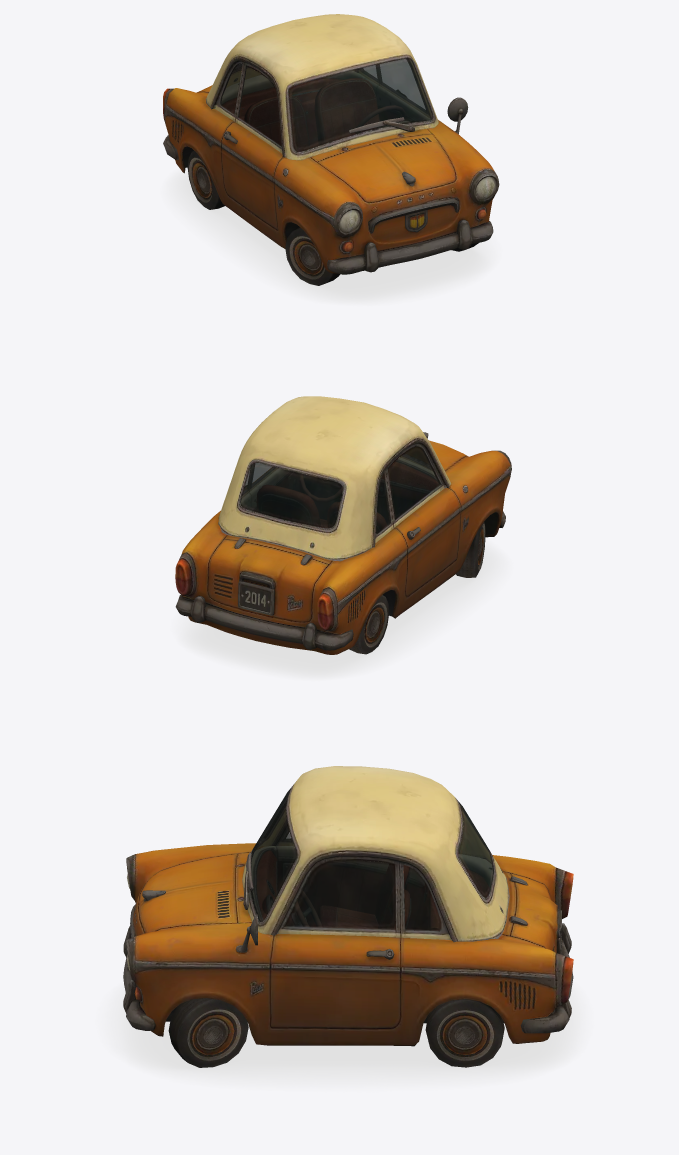
File: car-transformed.glb
3 renders of one model, top to bottom at view 1: azimuth 30°, elevation 25°; view 2: azimuth 150°, elevation 25°; view 3: azimuth 270°, elevation 25°, orthographic. The views are drawn at different scales.
Visible parts, largest first — view 1: Object_2, Object_3, Object_5, Object_4; view 2: Object_2, Object_3, Object_5, Object_4; view 3: Object_2, Object_3, Object_5, Object_4.
Boxes of the visible parts, x1=… form: Object_2: x1=163, y1=14, x2=499, y2=285; Object_3: x1=164, y1=168, x2=497, y2=304; Object_5: x1=220, y1=58, x2=433, y2=152; Object_4: x1=222, y1=70, x2=430, y2=151; Object_2: x1=175, y1=396, x2=511, y2=654; Object_3: x1=175, y1=540, x2=509, y2=679; Object_5: x1=240, y1=446, x2=440, y2=534; Object_4: x1=241, y1=457, x2=438, y2=533; Object_2: x1=123, y1=766, x2=573, y2=1067; Object_3: x1=103, y1=984, x2=587, y2=1088; Object_5: x1=251, y1=786, x2=493, y2=930; Object_4: x1=251, y1=846, x2=492, y2=930.
Size of the model in its own units: 2.9 by 1.34 by 3.43.
Materials: 4 (4 with a texture image).
